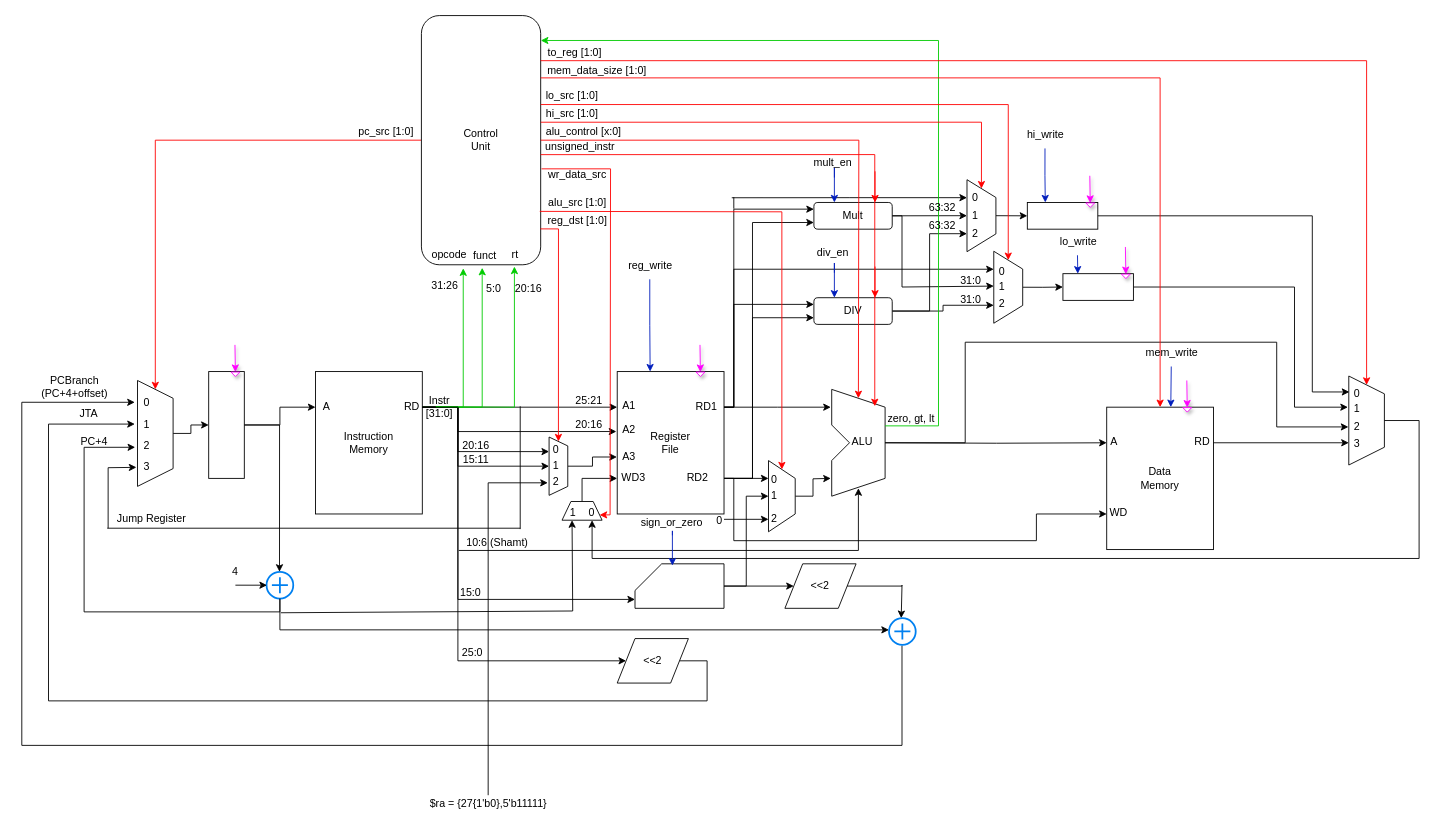
Image size: 1442x831. Some labels were removed from this diagram. The centre of each missing label's shape, as x and y in pixels:
"HI" goes at pixel 1062 215.
"LO" goes at pixel 1097 286.
"PC" goes at pixel 226 424.
"Sign Or Zero Extend" goes at pixel 679 585.
